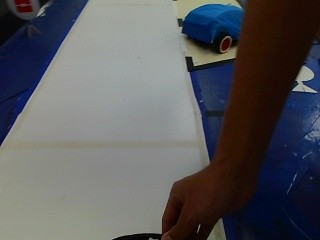car: (176, 3, 244, 54)
company: (9, 0, 40, 22)
